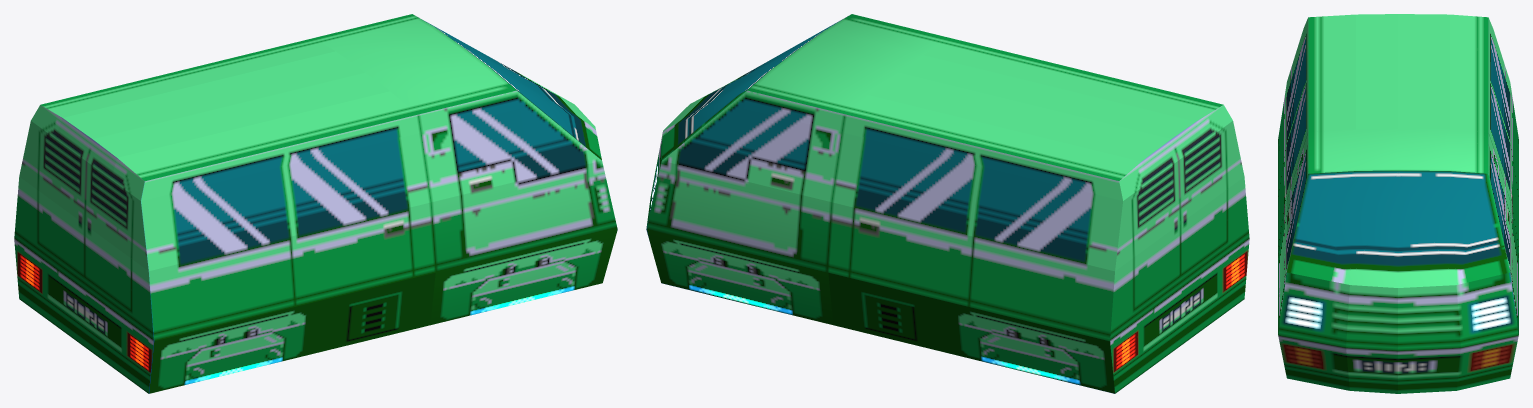
The model's file is van.DAE.
3 views of the same model, side by side, from view 1: azimuth 30°, elevation 25°; view 2: azimuth 150°, elevation 25°; view 3: azimuth 270°, elevation 25° (orthographic). The views are drawn at different scales.
Parts seen in each view (by area): view 1: van; view 2: van; view 3: van.
Boxes of the visible parts, x1,y1,x2,y2 form: van: (14, 14, 617, 393); van: (646, 14, 1249, 393); van: (1278, 14, 1518, 393).
Bounding box in the file's own units: 56.46 × 22.13 × 27.27.
